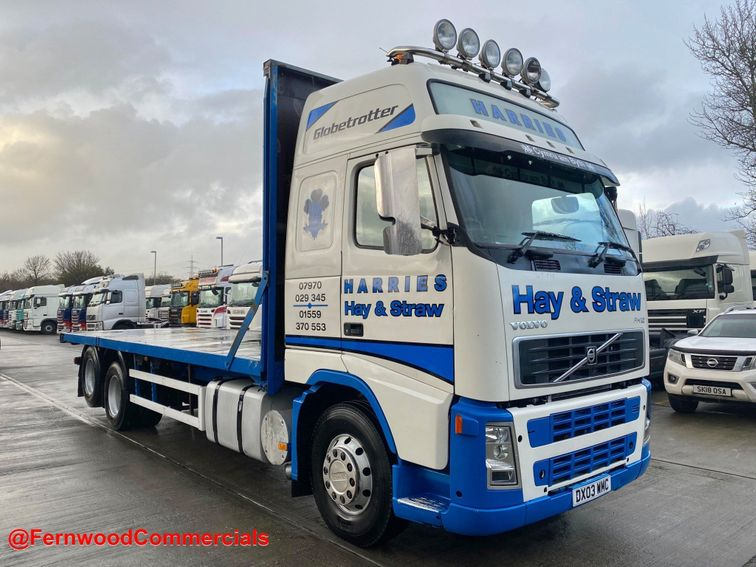Car: (662, 307, 755, 412)
Semi: (58, 19, 650, 546)
